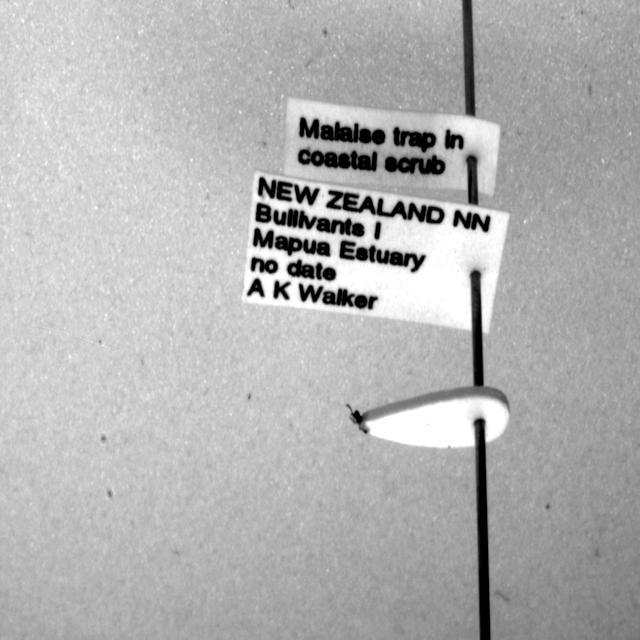typed_label: (242, 172, 509, 332), (284, 98, 500, 195)
